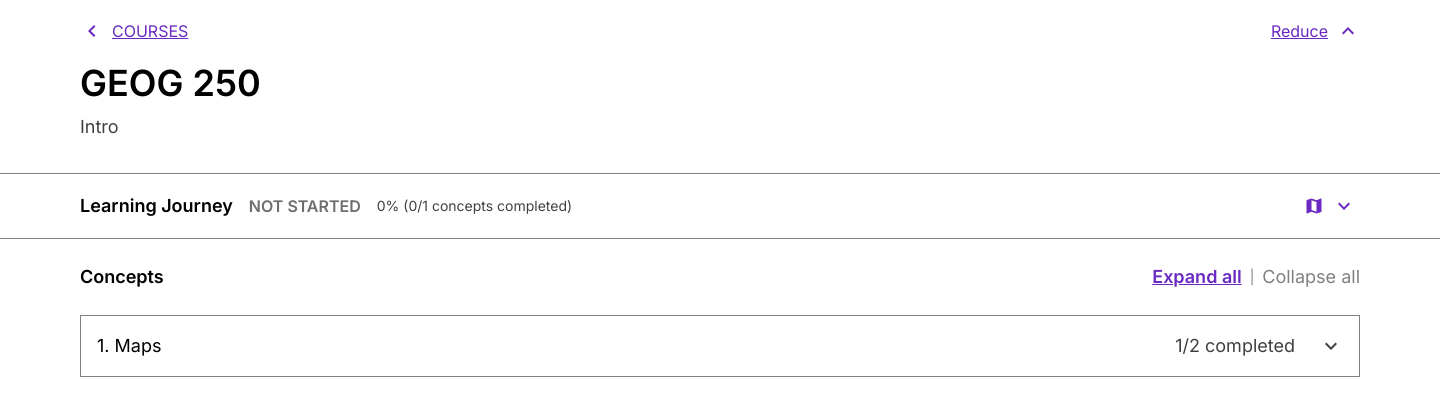
Test: CourseView › Reduce/Expand collapses the header — hides the Learning Journey bar, keeps code + Concepts
Check: the button named "learning journey" is shown, box [1300,190,1360,222]
Check: the heading "GEOG 250" is shown, box [80,69,261,97]
Click the button "Reduce" at x=1315, y=31, box [1271,17,1360,45]
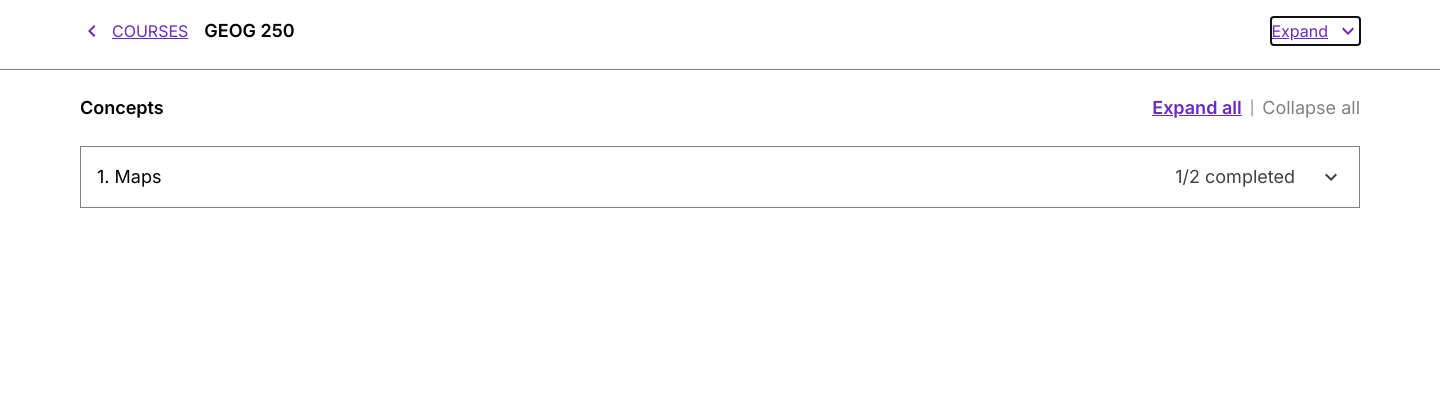
Check: the text "GEOG 250" is shown, box [204,17,295,45]
Check: the text "Learning Journey" is gone
Check: the button "Expand" is shown
// Expand → the Learning Journey bar returns.
Click the button "Expand" at x=1316, y=31, box [1272,17,1360,45]
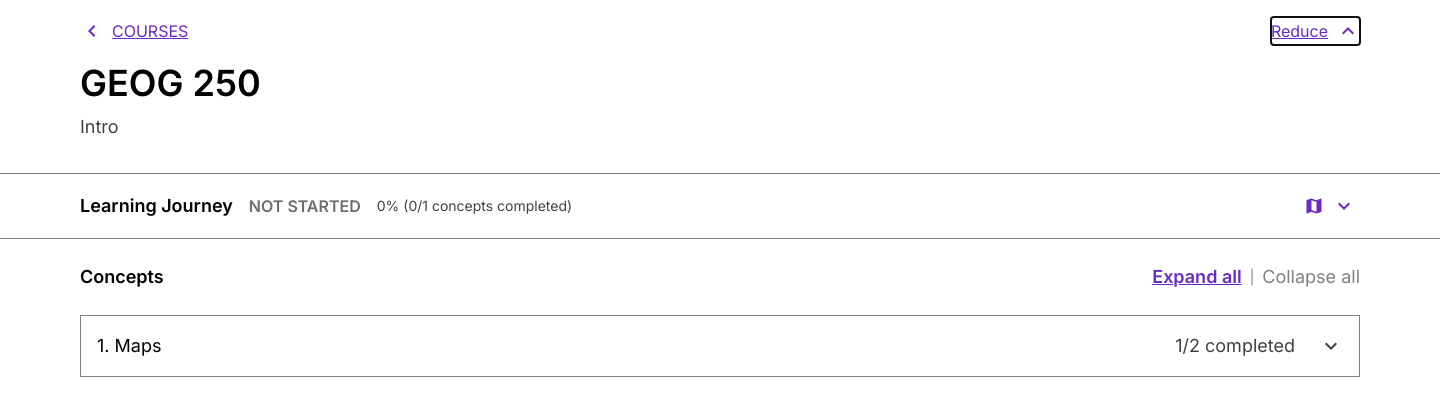
Check: the button named "learning journey" is shown, box [1300,190,1360,222]
